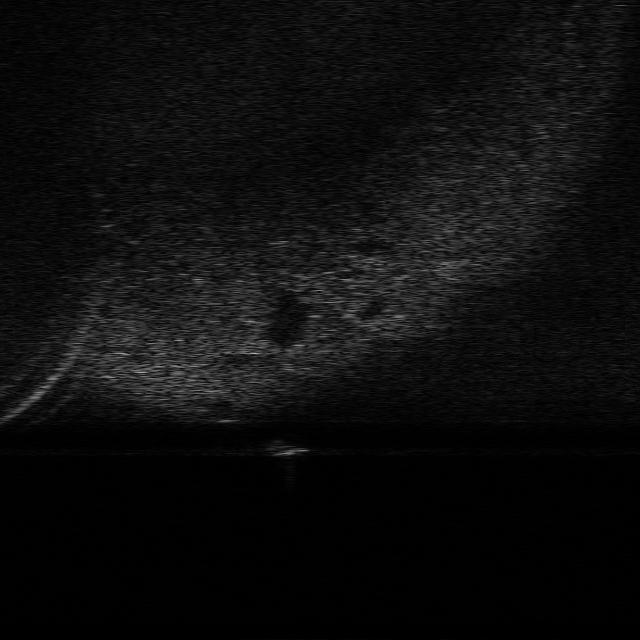cube: (264, 438, 311, 458)
